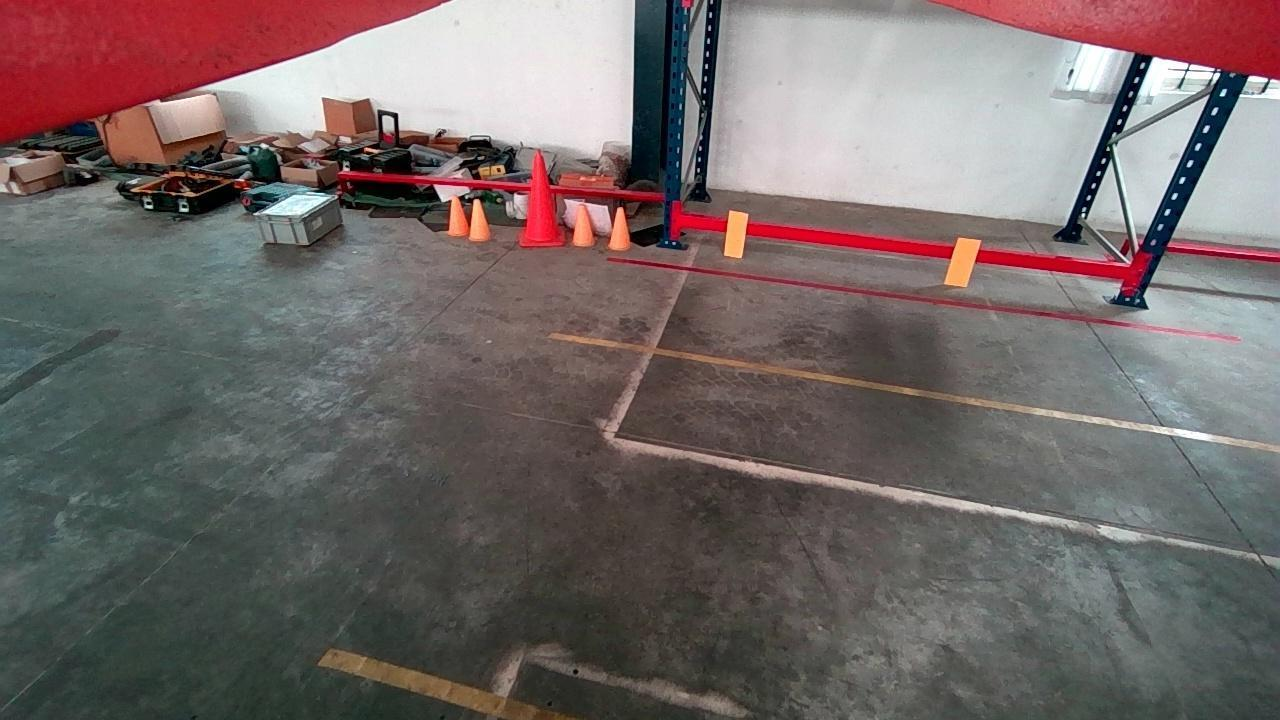h_rack: (682, 213, 1133, 280)
orange_strip: (945, 239, 981, 283), (725, 209, 749, 259)
red_line: (606, 252, 1245, 343)
yellow_line: (553, 332, 1280, 454)
